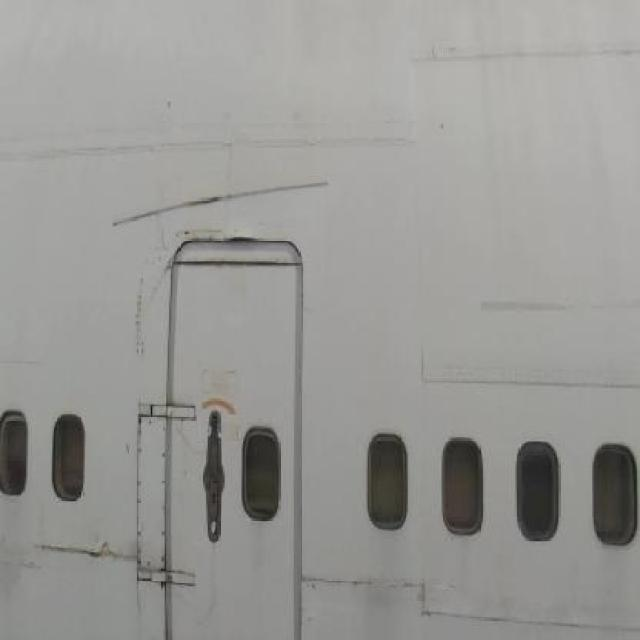Scartch: (408, 572, 443, 632), (82, 532, 122, 580)
